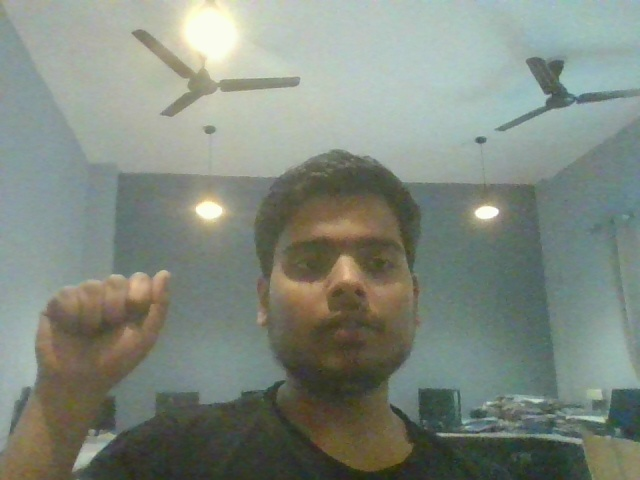A: (15, 244, 204, 401)
